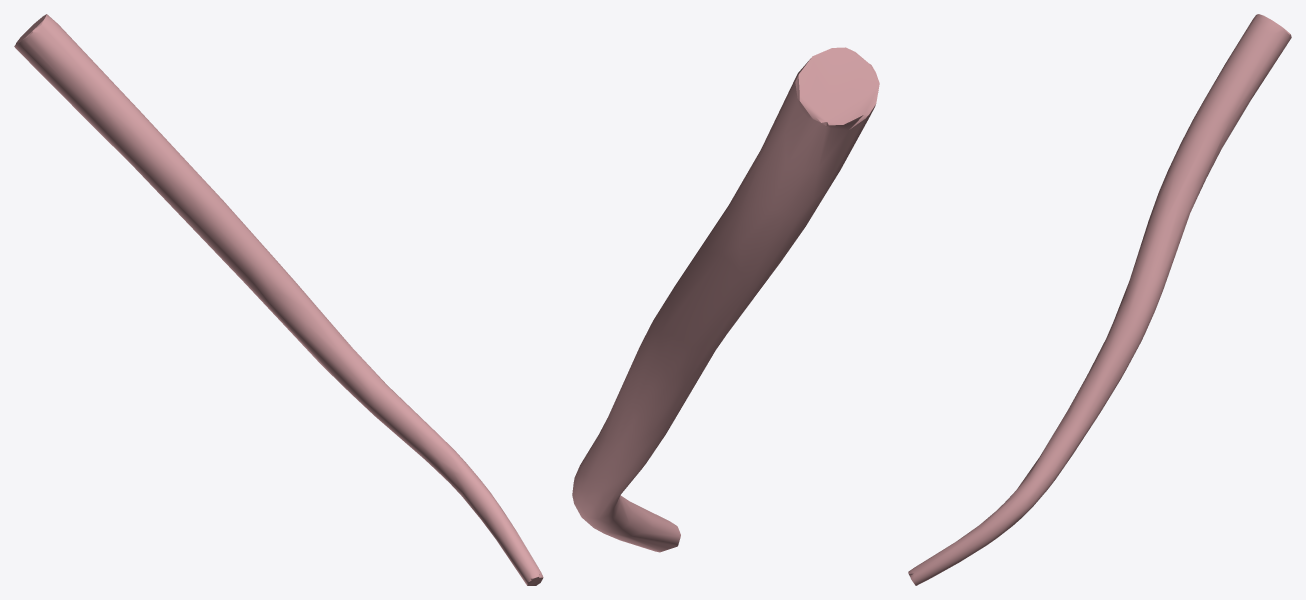
File: fma68231_fj6490.glb
3 views of the same model, side by side, from view 1: azimuth 30°, elevation 25°; view 2: azimuth 150°, elevation 25°; view 3: azimuth 270°, elevation 25° (orthographic). The views are drawn at different scales.
Visible parts, largest first — view 1: FMA68231_FJ6490; view 2: FMA68231_FJ6490; view 3: FMA68231_FJ6490.
Boxes of the visible parts, bbox=[...] form: FMA68231_FJ6490: bbox=[14, 14, 543, 585]; FMA68231_FJ6490: bbox=[572, 47, 879, 552]; FMA68231_FJ6490: bbox=[908, 14, 1291, 585].
Size of the model in its own units: 0.0587 by 0.0854 by 0.0671.
